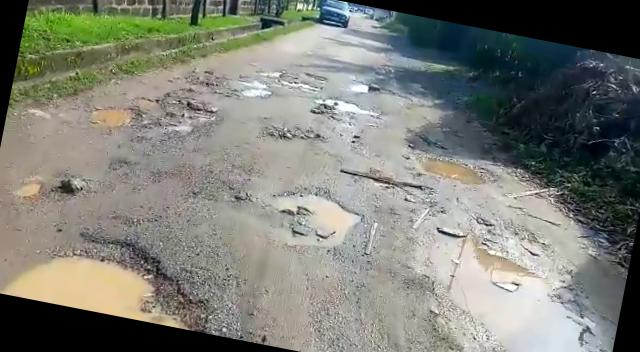pothole: (396, 222, 620, 352), (0, 214, 229, 334), (106, 80, 224, 150), (264, 181, 370, 254), (339, 165, 442, 205), (413, 148, 503, 190), (262, 118, 326, 148), (88, 100, 144, 134), (316, 93, 384, 120), (307, 94, 364, 124), (262, 68, 327, 93), (225, 74, 276, 102)
